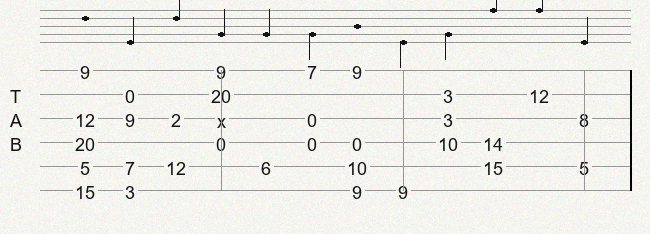0: (125, 86, 139, 103), (216, 134, 230, 151), (307, 134, 321, 151), (307, 110, 321, 127), (352, 134, 366, 151)
10: (347, 158, 371, 175), (438, 134, 462, 151)
12: (75, 110, 99, 127), (166, 158, 190, 175), (529, 86, 553, 103)
14: (483, 134, 507, 151)
15: (75, 182, 99, 199), (483, 158, 507, 175)
2: (171, 110, 185, 127)
20: (75, 134, 99, 151), (211, 86, 235, 103)
3: (125, 182, 139, 199), (443, 86, 457, 103), (443, 110, 457, 127)
5: (80, 158, 94, 175), (579, 158, 593, 175)
6: (261, 158, 275, 175)
7: (125, 158, 139, 175), (307, 62, 321, 79)
8: (579, 110, 593, 127)
9: (80, 62, 94, 79), (125, 110, 139, 127), (216, 62, 230, 79), (352, 182, 366, 199), (352, 62, 366, 79), (398, 182, 412, 199)
x: (217, 111, 230, 125)
